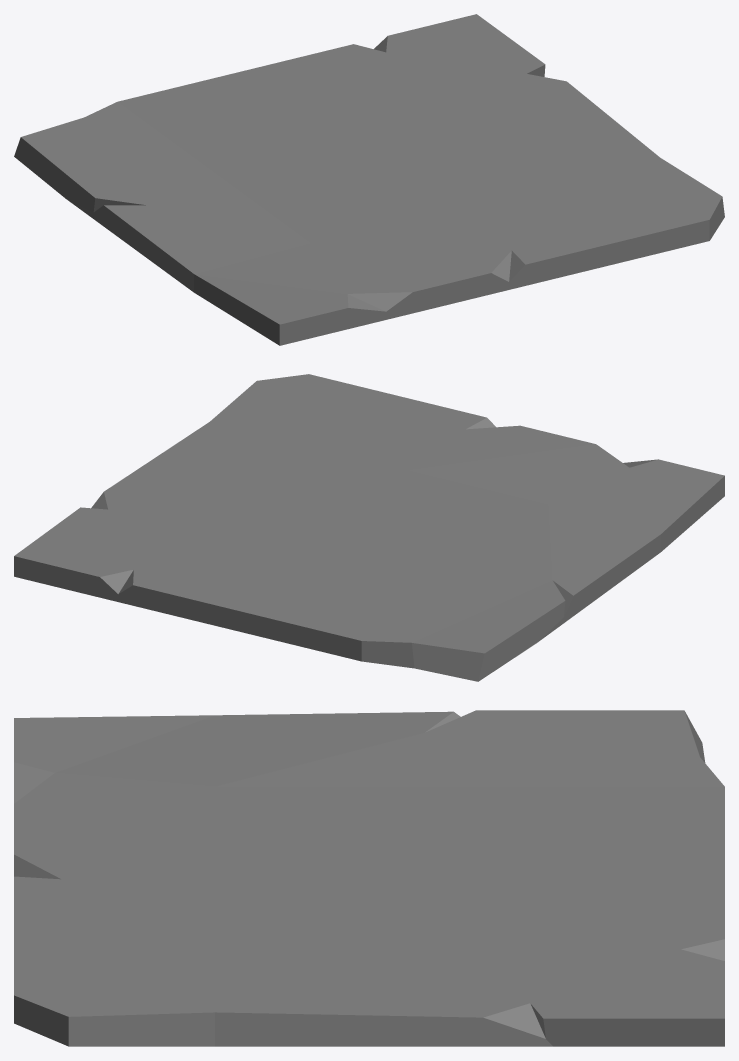
File: stone_2.fbx
3 views of the same model, one above another, from view 1: azimuth 30°, elevation 25°; view 2: azimuth 150°, elevation 25°; view 3: azimuth 270°, elevation 25° (orthographic). The views are drawn at different scales.
Visible parts, largest first — view 1: stone_2; view 2: stone_2; view 3: stone_2.
Part boxes in pixels (box(x1,y1,x2,y2)): stone_2: box(14, 14, 724, 345); stone_2: box(14, 374, 724, 681); stone_2: box(14, 710, 724, 1046).
Bounding box in the file's own units: 483 × 23.72 × 473.
